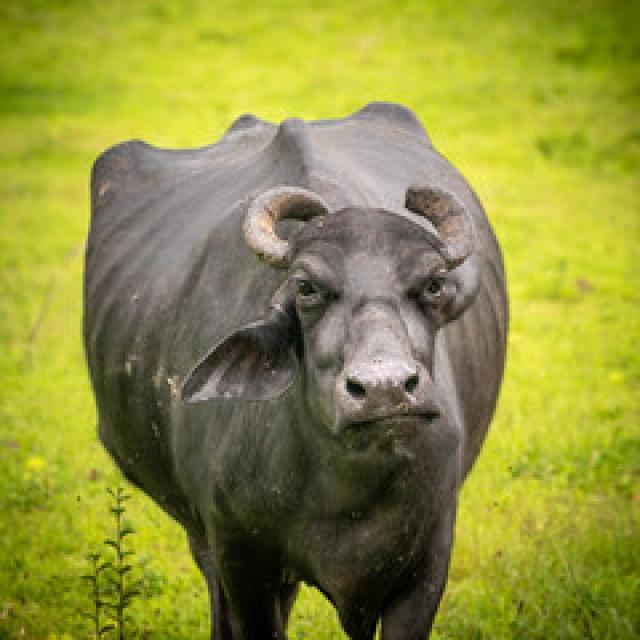Buffalo: (77, 96, 512, 637)
